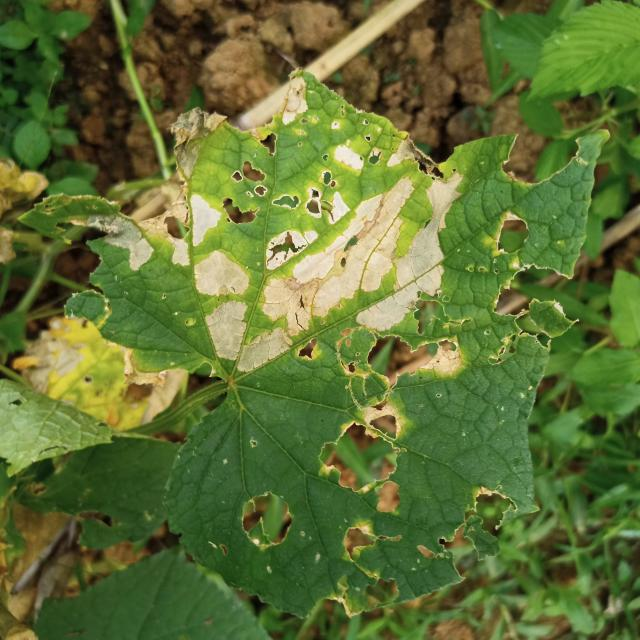disease_cucumber: (150, 125, 482, 399)
